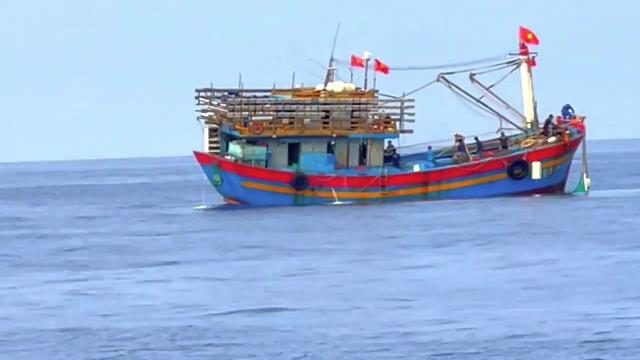Ship: (190, 51, 589, 208)
